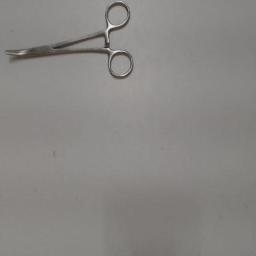Crile Artery Forceps: (2, 0, 136, 82)
